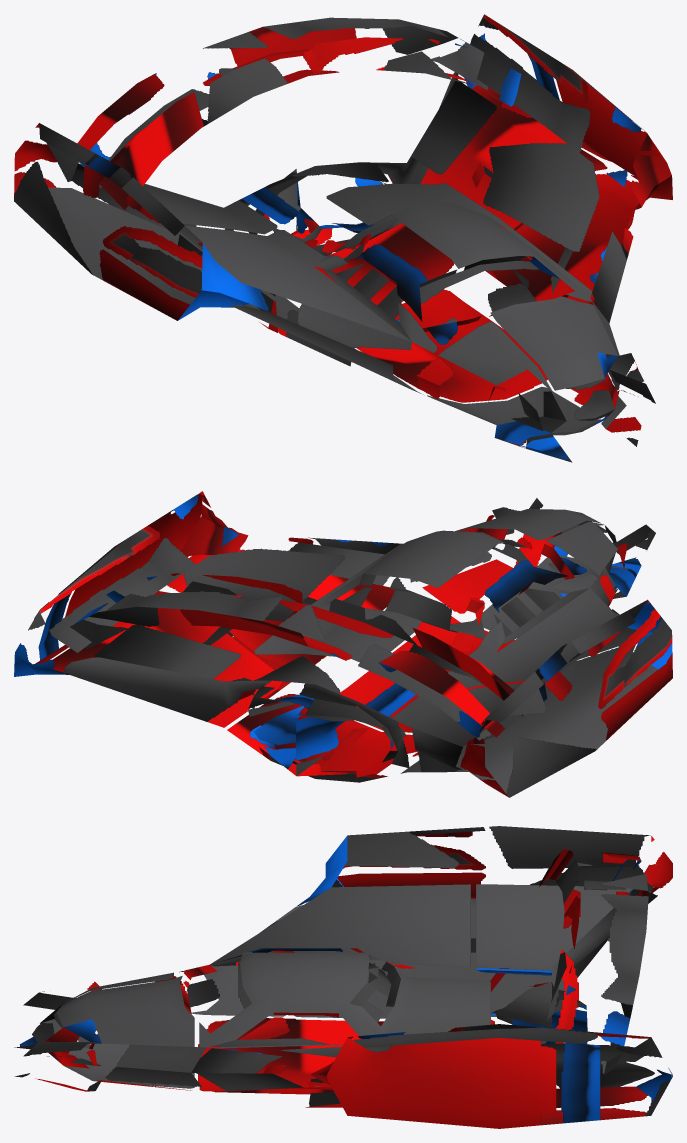
The model's file is Player_Tank.FBX.
3 renders of one model, top to bottom at view 1: azimuth 30°, elevation 25°; view 2: azimuth 150°, elevation 25°; view 3: azimuth 270°, elevation 25°, orthographic. The views are drawn at different scales.
Visible parts, largest first — view 1: Player_Tank; view 2: Player_Tank; view 3: Player_Tank.
Part boxes in pixels (<box>): Player_Tank: <box>14,14,672,462</box>; Player_Tank: <box>14,491,672,797</box>; Player_Tank: <box>14,826,672,1128</box>.
Size of the model in its own units: 6.11 by 2.35 by 7.37.
